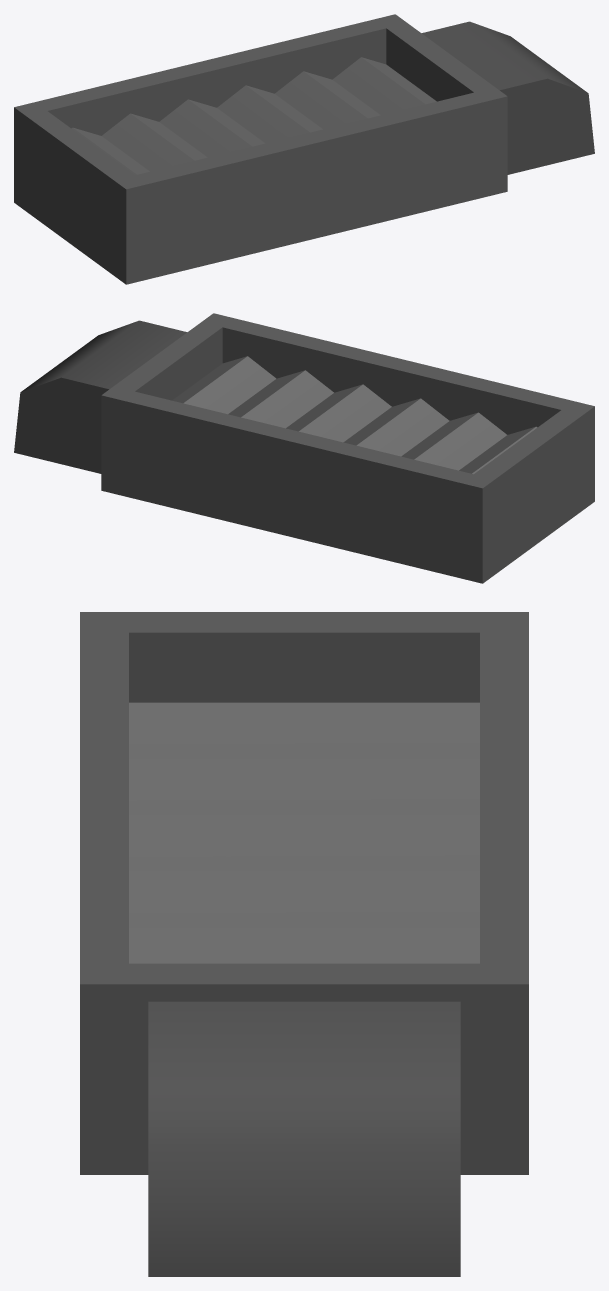
File: Vent_1_E_2.fbx
The picture shows the model from 3 angles, top to bottom: view 1: azimuth 30°, elevation 25°; view 2: azimuth 150°, elevation 25°; view 3: azimuth 270°, elevation 25°; orthographic projection. The views are drawn at different scales.
Visible parts, largest first — view 1: Vent_1_E_2; view 2: Vent_1_E_2; view 3: Vent_1_E_2.
Boxes of the visible parts, x1=… form: Vent_1_E_2: x1=14, y1=14, x2=594, y2=284; Vent_1_E_2: x1=14, y1=313, x2=594, y2=583; Vent_1_E_2: x1=80, y1=612, x2=528, y2=1276.
Size of the model in its own units: 142 by 26.71 by 56.97.
